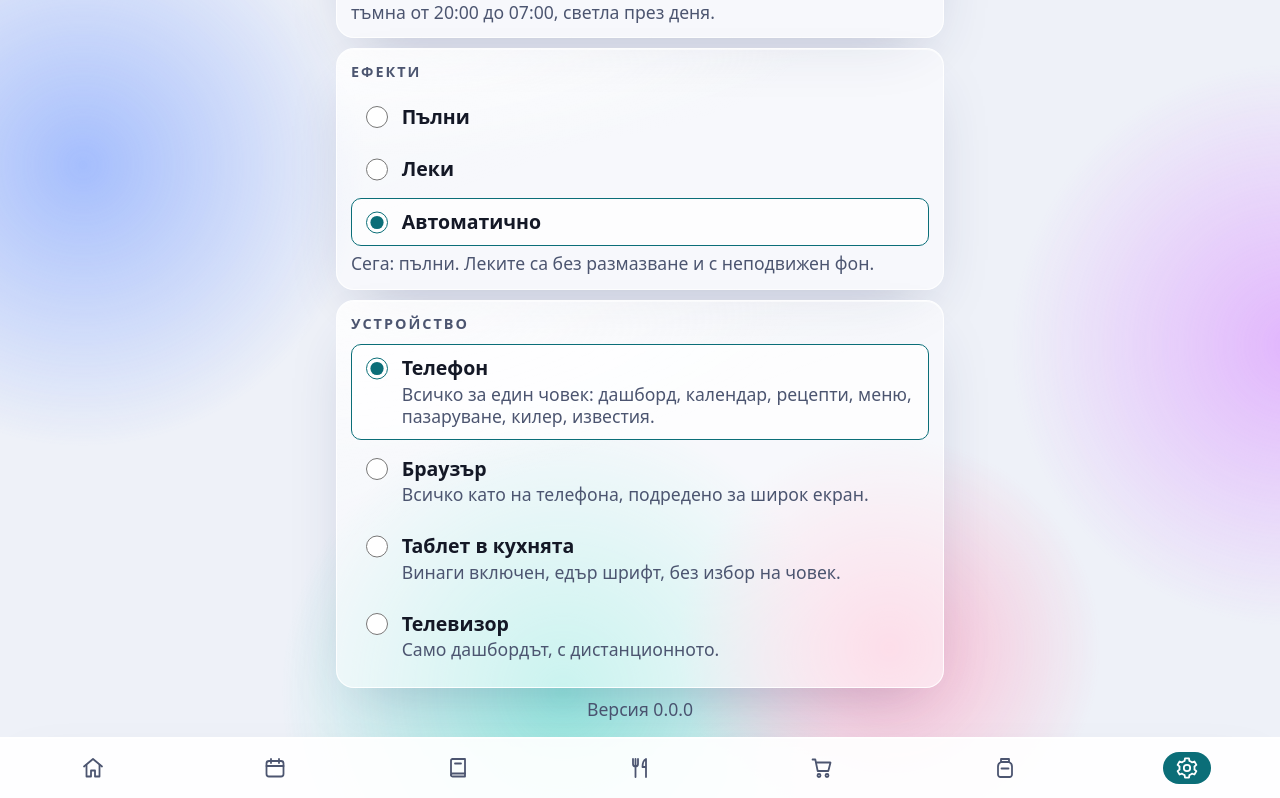
SettingsScreen › „Телевизор“ без потвърждение не сменя режима
(page scrolled)
Click the radio button labelled "Телевизор Само дашбордът, с дистанционното.". click: (377, 624)
box: [366,613,388,635]
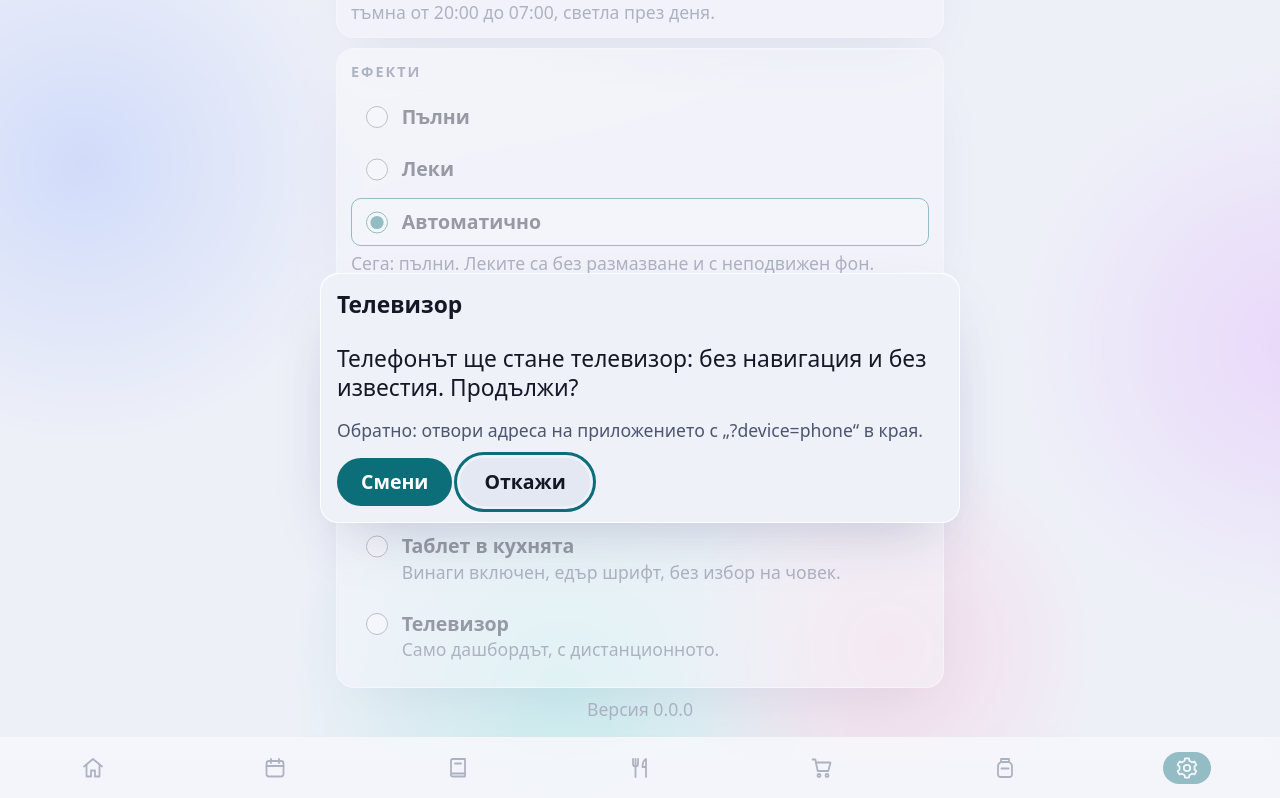
Expected: the radio button labelled "Телефон" is checked, [366,357,388,380]
Result: the dialog "Телевизор" shows "Телефонът ще стане телевизор: без навигация и без известия. Продължи?" at [320,273,960,523]
Result: the dialog "Телевизор" shows "?device=phone" at [320,273,960,523]
